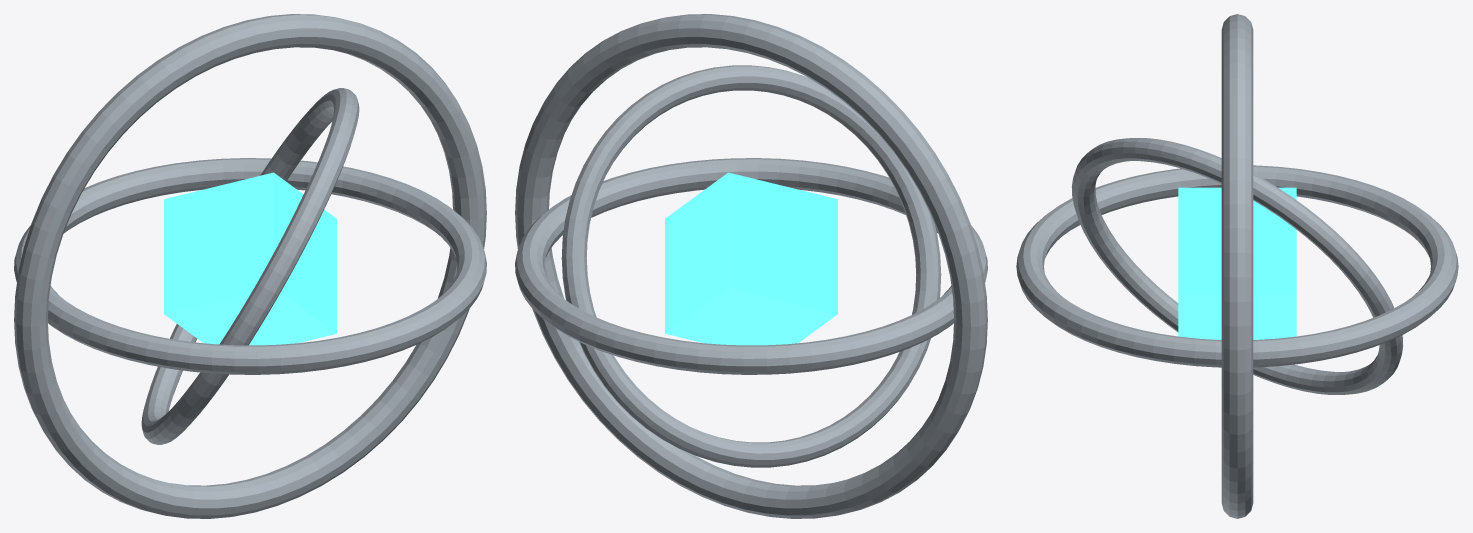
Rendered from reactor_brutal_3d.glb.
The picture shows the model from 3 angles, left to right: view 1: azimuth 30°, elevation 25°; view 2: azimuth 150°, elevation 25°; view 3: azimuth 270°, elevation 25°; orthographic projection. The views are drawn at different scales.
Parts seen in each view (by area): view 1: node_0, node_1, node_3, node_2; view 2: node_0, node_2, node_3, node_1; view 3: node_1, node_0, node_2, node_3.
Boxes of the visible parts, x1=… form: node_0: x1=14, y1=14, x2=486, y2=518; node_1: x1=14, y1=158, x2=486, y2=374; node_3: x1=164, y1=172, x2=336, y2=345; node_2: x1=141, y1=88, x2=359, y2=444; node_0: x1=515, y1=14, x2=987, y2=518; node_2: x1=561, y1=65, x2=941, y2=467; node_3: x1=665, y1=172, x2=837, y2=345; node_1: x1=515, y1=158, x2=987, y2=374; node_1: x1=1016, y1=165, x2=1458, y2=367; node_0: x1=1221, y1=14, x2=1253, y2=518; node_2: x1=1071, y1=138, x2=1403, y2=394; node_3: x1=1178, y1=187, x2=1296, y2=339.
Size of the model in its own units: 2.56 by 2.56 by 2.24.
